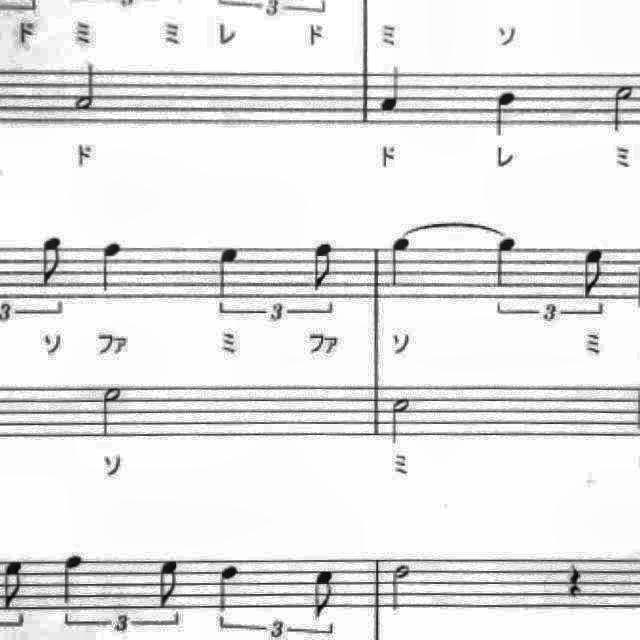Eighth-note: (573, 245, 613, 307), (33, 231, 71, 293), (304, 238, 341, 300), (306, 564, 344, 624), (153, 556, 187, 612), (0, 556, 28, 612)
Half-note: (68, 54, 104, 114), (98, 382, 132, 444), (607, 77, 640, 139), (384, 390, 418, 450), (384, 559, 416, 617), (639, 77, 640, 139)
Quarter-note: (383, 233, 421, 294), (94, 236, 130, 300), (212, 242, 248, 306), (488, 233, 524, 295), (210, 559, 246, 617), (488, 85, 524, 143), (372, 58, 408, 116), (56, 550, 88, 606)
Quarter-rest: (558, 556, 590, 604)
